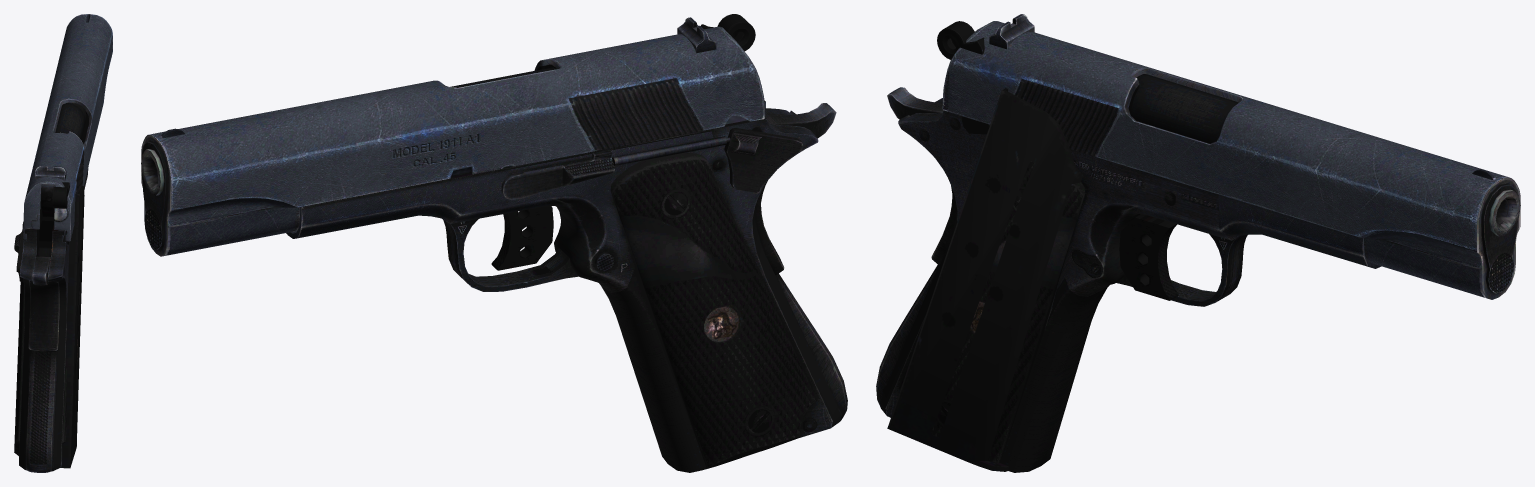
File: pistol.obj
3 renders of one model, left to right at view 1: azimuth 30°, elevation 25°; view 2: azimuth 150°, elevation 25°; view 3: azimuth 270°, elevation 25°, orthographic. The views are drawn at different scales.
Parts seen in each view (by area): view 1: Handle, Slide, Mag, Hammer; view 2: Handle, Slide, Trigger, Hammer; view 3: Slide, Handle, Mag, Trigger, Hammer.
Boxes of the visible parts, bbox=[...] form: Handle: bbox=[14, 102, 88, 472]; Slide: bbox=[23, 14, 112, 241]; Mag: bbox=[60, 186, 84, 468]; Hammer: bbox=[52, 182, 69, 244]; Handle: bbox=[141, 67, 847, 472]; Slide: bbox=[141, 17, 765, 256]; Trigger: bbox=[491, 206, 553, 270]; Hammer: bbox=[700, 14, 755, 51]; Slide: bbox=[942, 14, 1520, 299]; Handle: bbox=[876, 74, 1520, 472]; Mag: bbox=[887, 88, 1083, 471]; Trigger: bbox=[1119, 214, 1178, 300]; Hammer: bbox=[937, 21, 989, 134].
Bounding box in the file's own units: 38.51 × 37.93 × 50.54.
